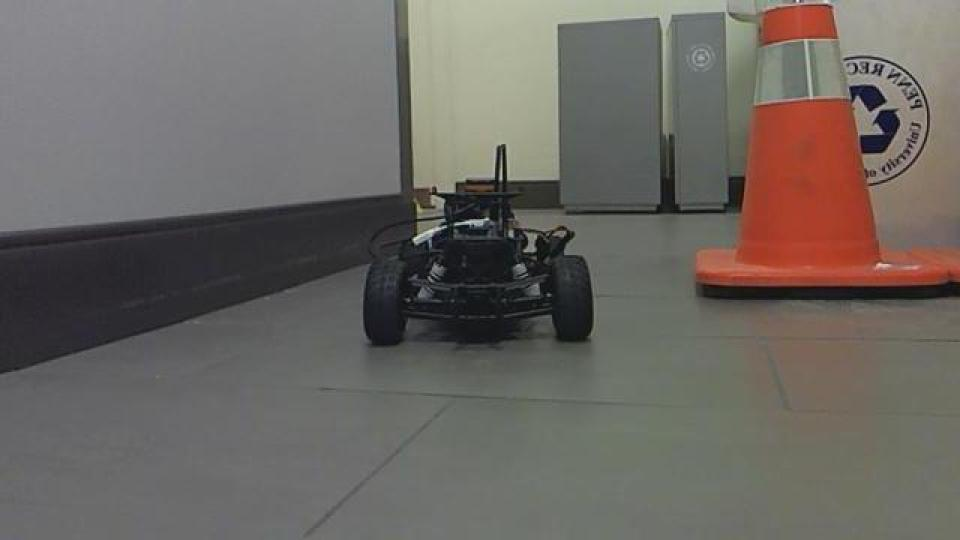car: (359, 142, 597, 348)
